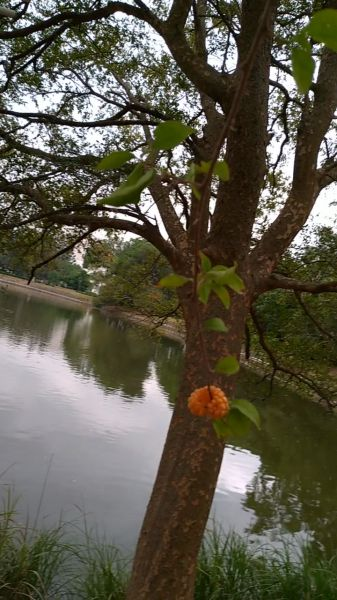eggs: (180, 383, 231, 424)
